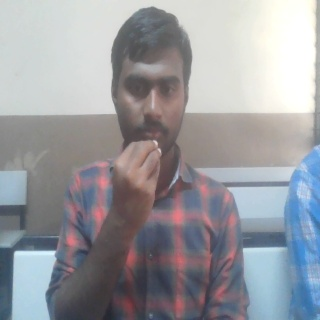Food: (109, 137, 163, 232)
